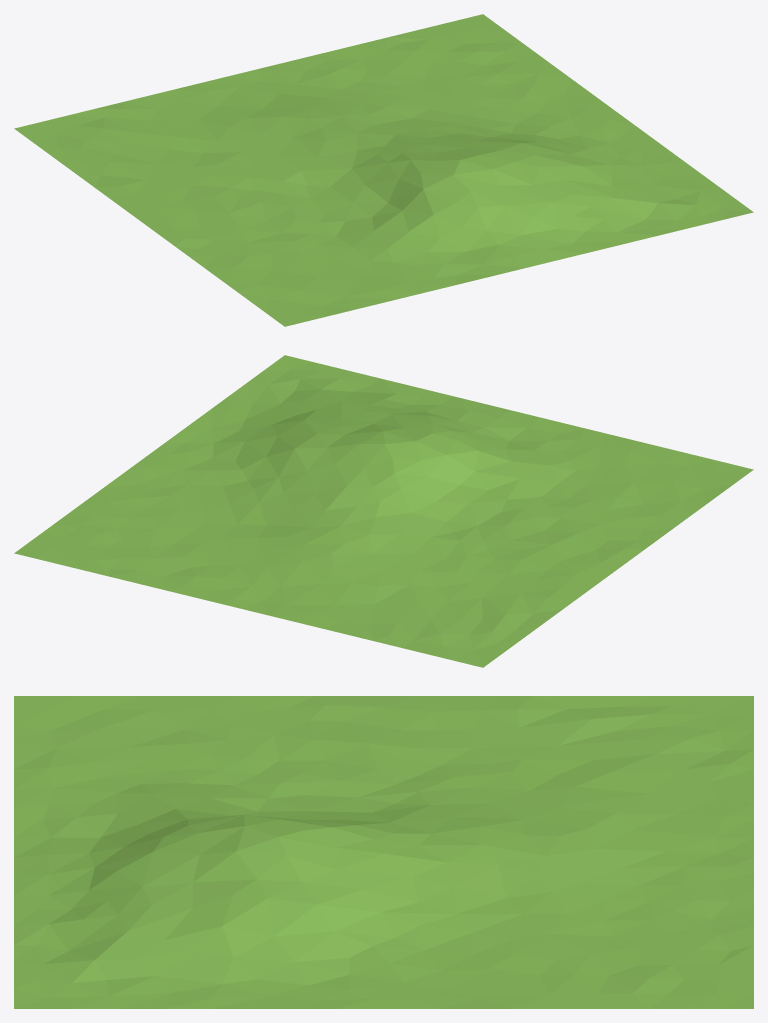
The model's file is MT_Terrain_M_a_10_LOD.fbx.
The picture shows the model from 3 angles, top to bottom: view 1: azimuth 30°, elevation 25°; view 2: azimuth 150°, elevation 25°; view 3: azimuth 270°, elevation 25°; orthographic projection. The views are drawn at different scales.
Visible parts, largest first — view 1: MT_Terrain_M_a_10_LOD0; view 2: MT_Terrain_M_a_10_LOD0; view 3: MT_Terrain_M_a_10_LOD0.
Part boxes in pixels (bbox=[...]): MT_Terrain_M_a_10_LOD0: bbox=[14, 14, 753, 326]; MT_Terrain_M_a_10_LOD0: bbox=[14, 355, 753, 667]; MT_Terrain_M_a_10_LOD0: bbox=[14, 696, 753, 1008].
Size of what is drawn, in the model's own units: 5000 by 311 by 5000.
